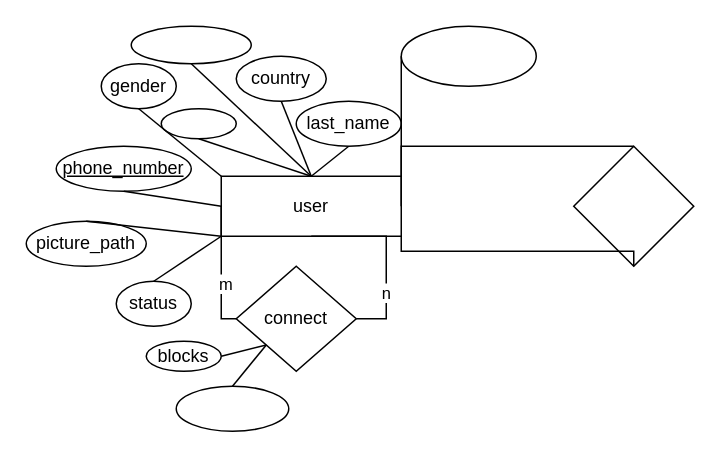
Some shapes in this 720 by 458 pixel diagram are drawn without their labels. Each missing label, with the box of its shape:
blocked_by: (175, 385, 289, 431)
date_of_birth: (400, 25, 536, 86)
email: (160, 107, 236, 139)
first_name: (130, 25, 251, 64)
invite: (572, 145, 694, 266)
